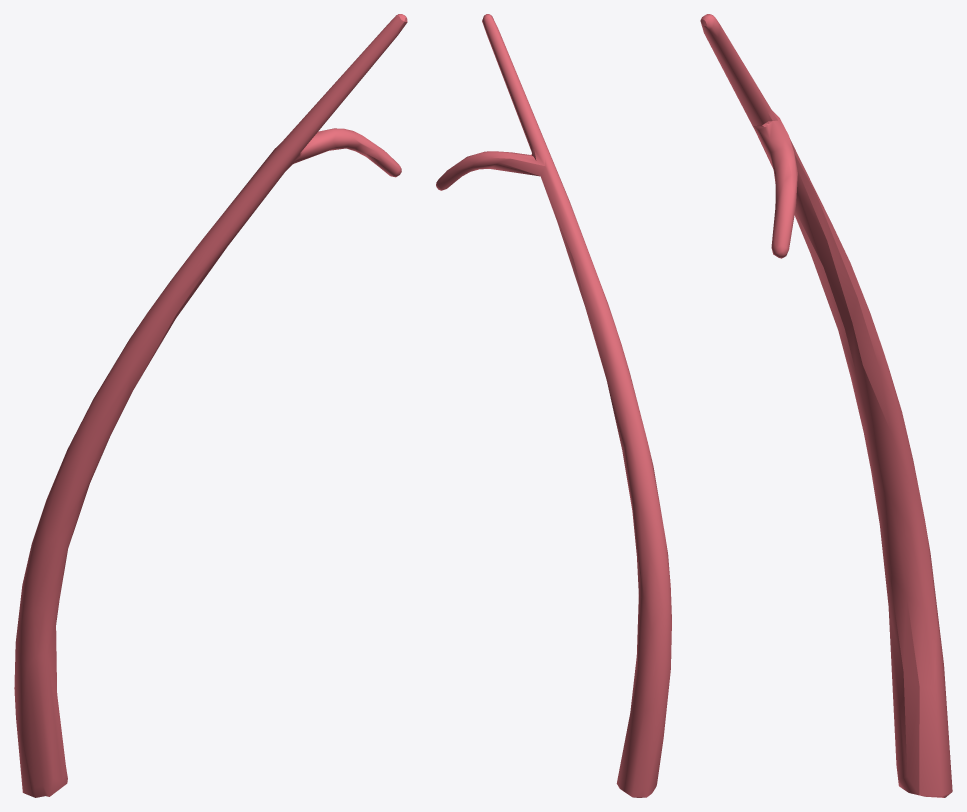
The model's file is fma10697_fj2209.glb.
3 views of the same model, side by side, from view 1: azimuth 30°, elevation 25°; view 2: azimuth 150°, elevation 25°; view 3: azimuth 270°, elevation 25° (orthographic). The views are drawn at different scales.
Parts seen in each view (by area): view 1: FMA10697_FJ2209; view 2: FMA10697_FJ2209; view 3: FMA10697_FJ2209.
Part boxes in pixels (x1,y1,x2,y2): FMA10697_FJ2209: [14, 14, 407, 797]; FMA10697_FJ2209: [436, 14, 671, 797]; FMA10697_FJ2209: [700, 14, 952, 797].
Bounding box in the file's own units: 0.0147 × 0.0334 × 0.00814.
